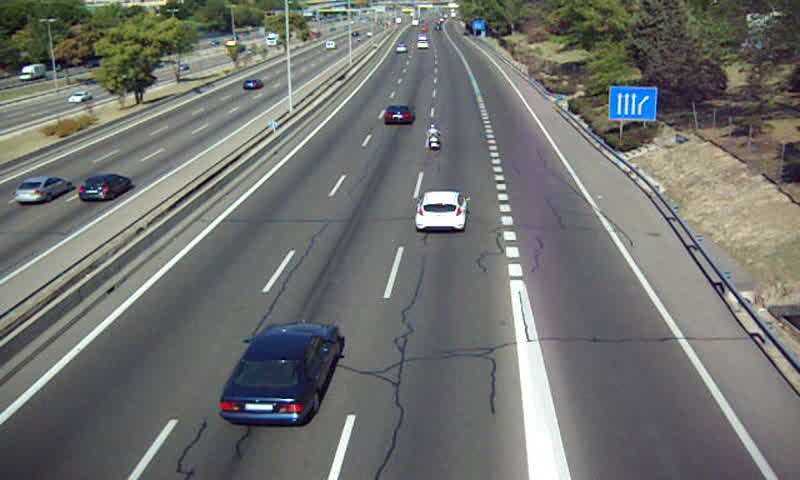car: (220, 325, 340, 426), (416, 191, 467, 230), (383, 104, 416, 126)
motorcycle: (424, 123, 444, 150)
